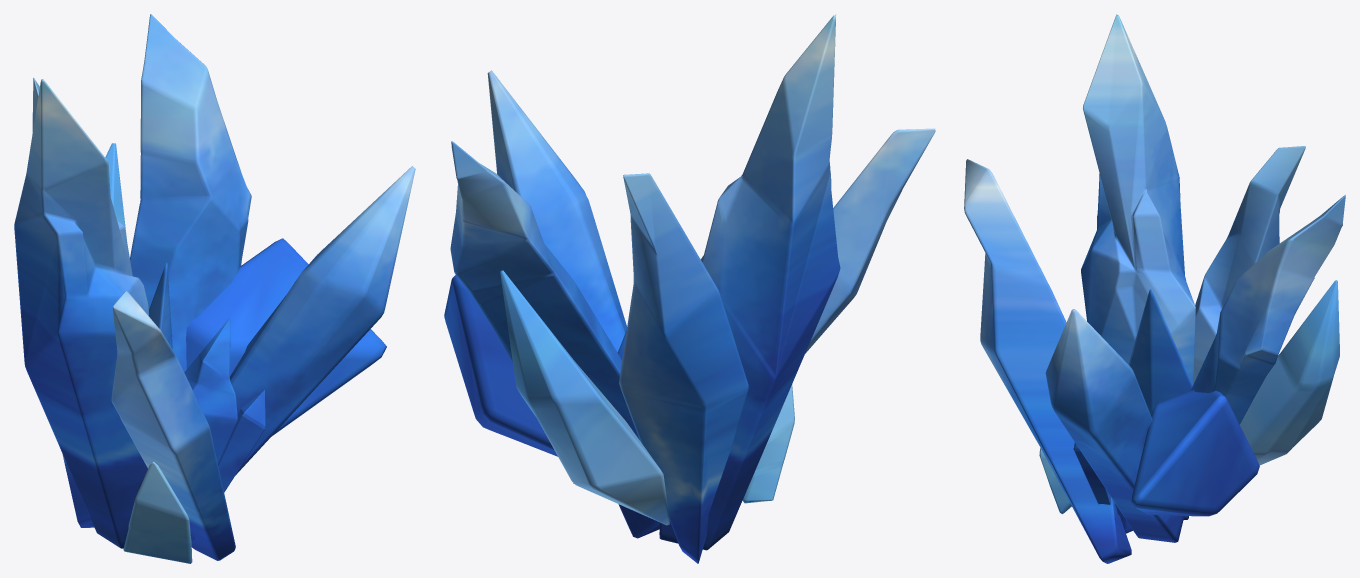
The model's file is shuijing_2.fbx.
The picture shows the model from 3 angles, left to right: view 1: azimuth 30°, elevation 25°; view 2: azimuth 150°, elevation 25°; view 3: azimuth 270°, elevation 25°; orthographic projection. The views are drawn at different scales.
Parts seen in each view (by area): view 1: shuijing:Object135; view 2: shuijing:Object135; view 3: shuijing:Object135.
Part boxes in pixels (x1,y1,x2,y2): shuijing:Object135: (14, 14, 415, 563); shuijing:Object135: (444, 14, 935, 563); shuijing:Object135: (964, 14, 1345, 563).
Size of the model in its own units: 152 by 207 by 151.
